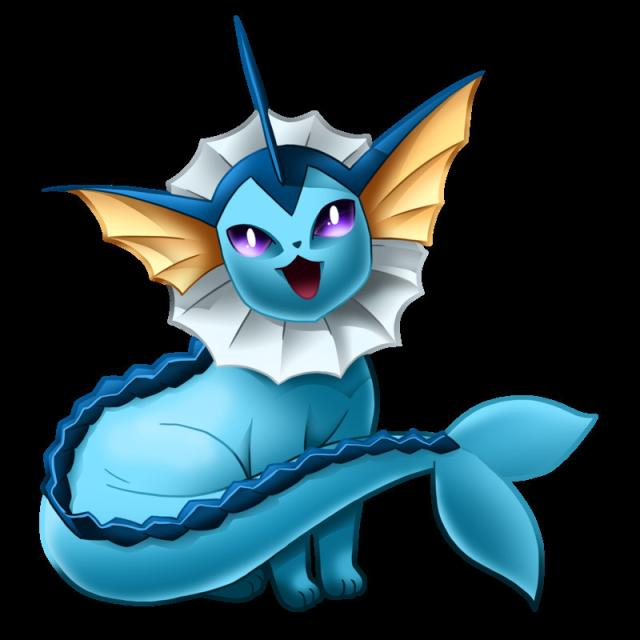Vaporeon: (39, 69, 490, 640)
